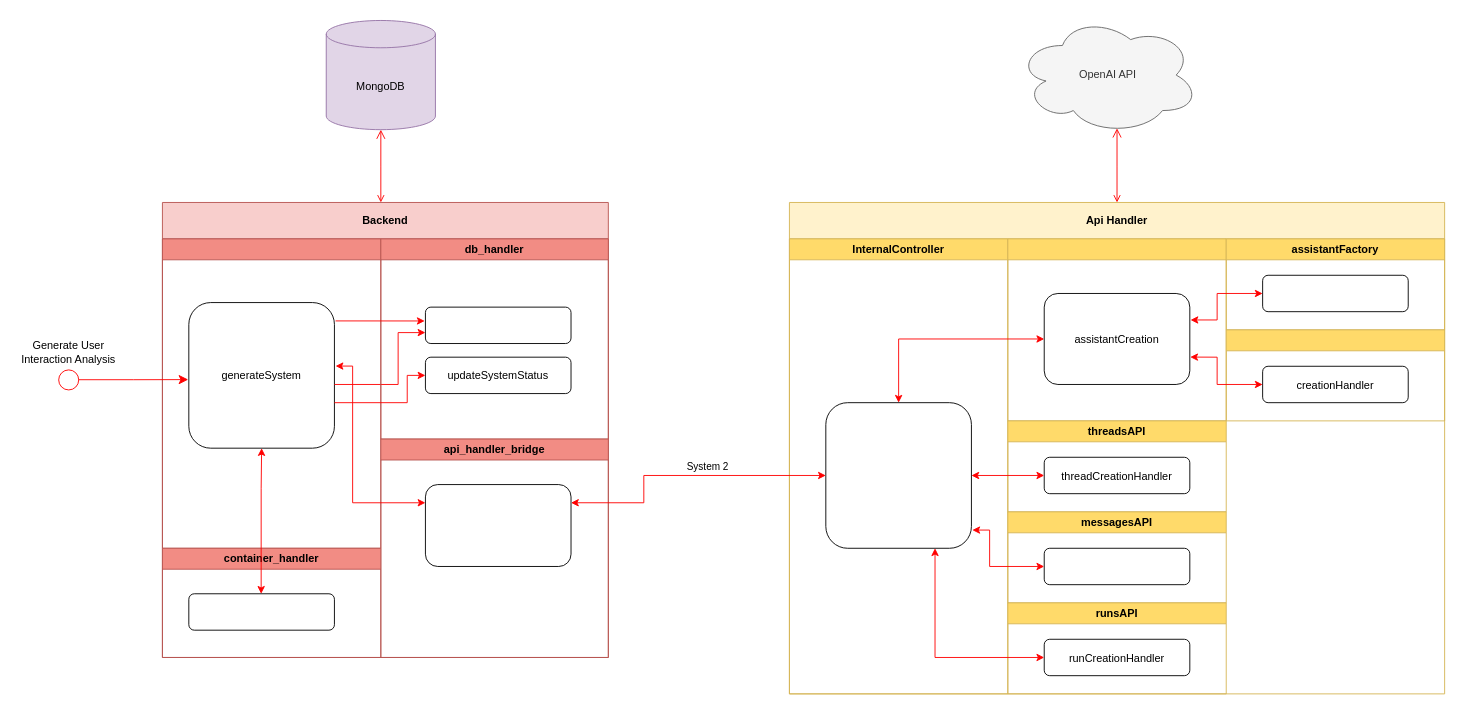
Image size: 1461x710. Some labels were removed from this diagram. The shapes that lost their labels are listed below. From the top down, each one's box as (x1, y1, x2, y2) in pixels, then its label:
(1262, 274, 1408, 312): set_assets
(425, 306, 571, 344): updateSystem
(1007, 238, 1226, 421): assistantOrchestrator
(162, 238, 381, 548): GenerationController
(1225, 329, 1445, 421): assistantAPI
(825, 402, 971, 548): interrogate
(425, 484, 571, 566): assistant_call
(1043, 547, 1190, 585): messageCreationHandler
(188, 593, 334, 630): getContainersList
